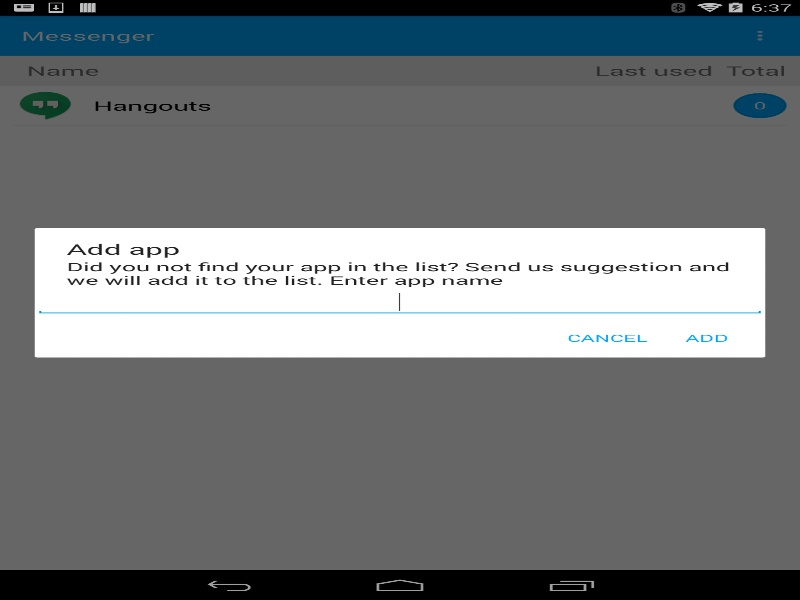Button: (551, 321, 664, 355), (664, 321, 749, 355)
Input: (34, 288, 765, 315)
